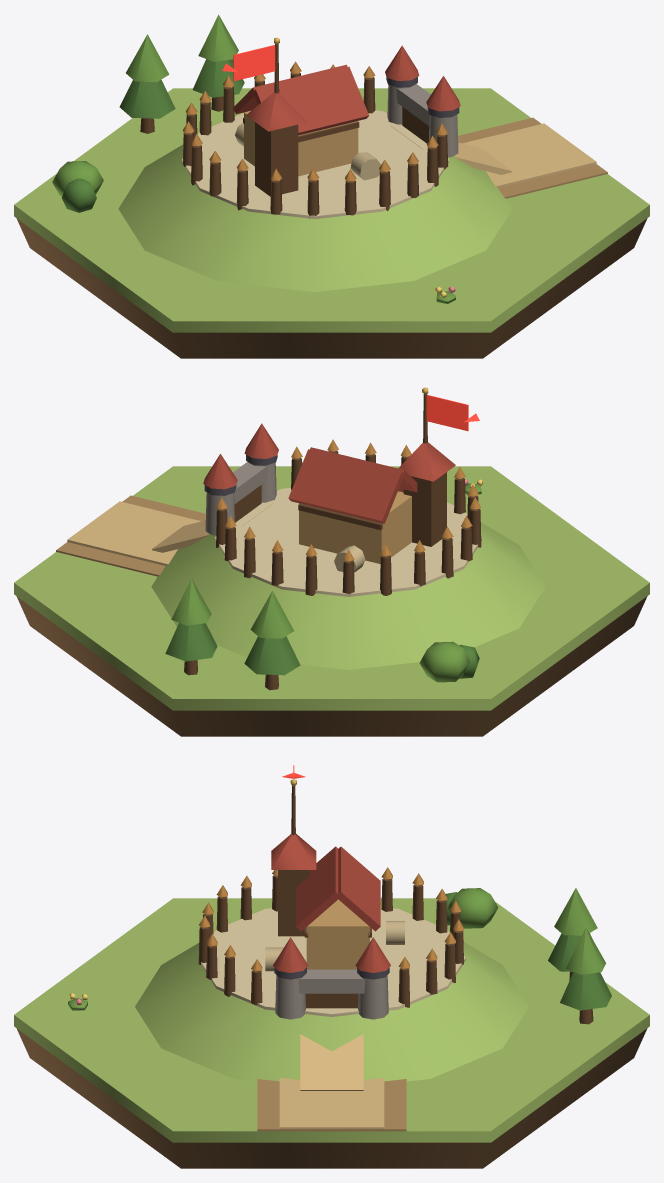
Rendered from tile_base_motte.glb.
The picture shows the model from 3 angles, top to bottom: view 1: azimuth 30°, elevation 25°; view 2: azimuth 150°, elevation 25°; view 3: azimuth 270°, elevation 25°; orthographic projection.
Visible parts, largest first — view 1: ground, mound, ground_soil, mound_top, road, hall_roof_south, hall, lookout, deco_tree_0_crown, lookout_roof, deco_tree_0_crown_b, deco_tree_3_crown (+13 smaller); view 2: ground, mound, ground_soil, mound_top, road, hall_roof_north, hall, lookout, deco_tree_0_crown, deco_bush_1_a, deco_tree_3_crown, lookout_roof (+12 smaller); view 3: ground, mound, ground_soil, mound_top, road, hall, ramp, hall_roof_north, hall_roof_south, gate_arch, deco_tree_3_crown, lookout (+10 smaller).
Part boxes in pixels (x1,y1,x2,y2): ground: (14,88,649,332); mound: (118,144,512,291); ground_soil: (16,218,647,358); mound_top: (182,110,448,218); road: (458,117,607,198); hall_roof_south: (253,66,369,135); hall: (244,111,358,176); lookout: (255,122,298,196); deco_tree_0_crown: (119,79,175,118); lookout_roof: (246,92,306,131); deco_tree_0_crown_b: (126,34,169,82); deco_tree_3_crown: (192,59,244,97); ground: (14,466,649,710); mound: (151,522,545,669); ground_soil: (16,596,647,736); mound_top: (215,488,481,596); road: (56,495,205,576); hall_roof_north: (288,449,403,523); hall: (299,491,411,563); lookout: (403,472,446,546); deco_tree_0_crown: (244,636,300,675); deco_bush_1_a: (419,641,469,682); deco_tree_3_crown: (165,623,217,661); lookout_roof: (398,442,455,481); ground: (14,898,649,1142); mound: (135,942,528,1081); ground_soil: (16,1028,647,1168); mound_top: (198,907,465,1016); road: (257,1078,406,1131); hall: (306,899,369,969); ramp: (300,1034,363,1090); hall_roof_north: (337,846,380,931); hall_roof_south: (296,846,340,931); gate_arch: (298,969,365,993); deco_tree_3_crown: (560,972,611,1010); lookout: (278,870,309,936).
Size of the model in its own units: 1.73 by 0.842 by 2.
